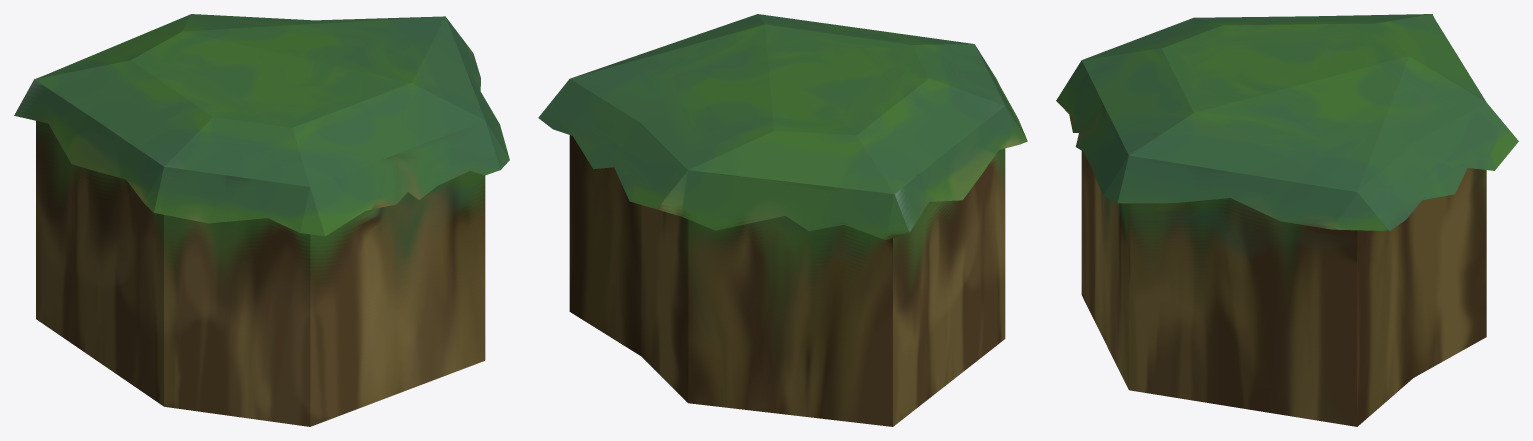
The model's file is cliff1.glb.
3 views of the same model, side by side, from view 1: azimuth 30°, elevation 25°; view 2: azimuth 150°, elevation 25°; view 3: azimuth 270°, elevation 25° (orthographic). The views are drawn at different scales.
Visible parts, largest first — view 1: Plane-col; view 2: Plane-col; view 3: Plane-col.
Boxes of the visible parts, left/top/right/bottom form: Plane-col: left=14, top=14, right=509, bottom=426; Plane-col: left=538, top=14, right=1027, bottom=426; Plane-col: left=1056, top=14, right=1518, bottom=426.
Size of the model in its own units: 5.61 by 3.47 by 5.66.
1 material, 1 textured.
